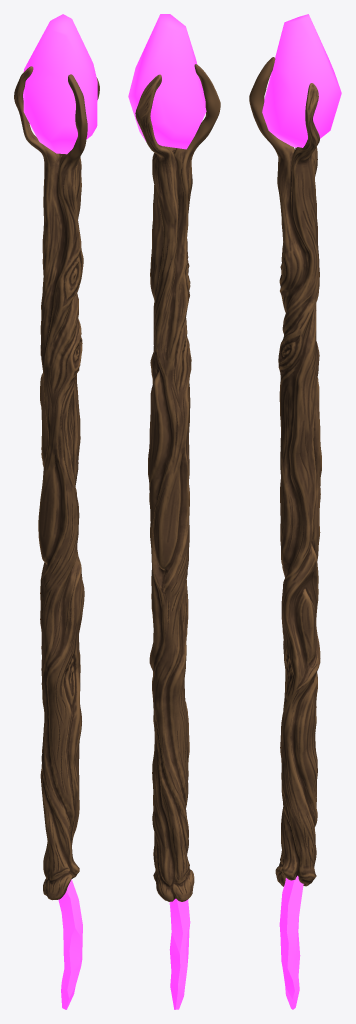
The model's file is apprentice-shard-staff.glb.
3 renders of one model, left to right at view 1: azimuth 90°, elevation 25°; view 2: azimuth 150°, elevation 25°; view 3: azimuth 330°, elevation 25°, orthographic.
Parts seen in each view (by area): view 1: Mango low, Piedra arriba_low, Piedra abajo low; view 2: Mango low, Piedra arriba_low, Piedra abajo low; view 3: Mango low, Piedra arriba_low, Piedra abajo low.
Boxes of the visible parts, x1=… form: Mango low: x1=14, y1=66, x2=99, y2=900; Piedra arriba_low: x1=23, y1=14, x2=97, y2=154; Piedra abajo low: x1=58, y1=879, x2=82, y2=1009; Mango low: x1=135, y1=64, x2=220, y2=901; Piedra arriba_low: x1=128, y1=14, x2=206, y2=149; Piedra abajo low: x1=169, y1=898, x2=190, y2=1009; Mango low: x1=249, y1=57, x2=321, y2=886; Piedra arriba_low: x1=262, y1=14, x2=341, y2=147; Piedra abajo low: x1=279, y1=875, x2=303, y2=1009.
Bounding box in the file's own units: 0.1321 × 1.69 × 0.1332.
Materials: 2 (1 with a texture image).
